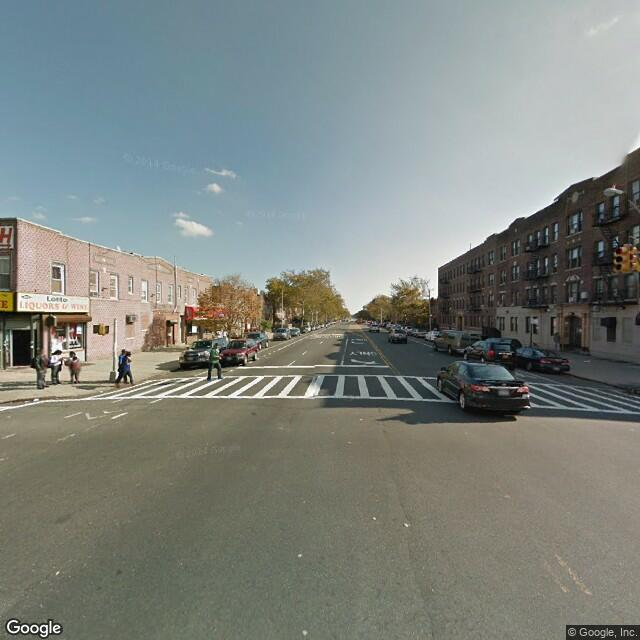litter: (583, 358, 593, 366), (29, 398, 38, 402)
